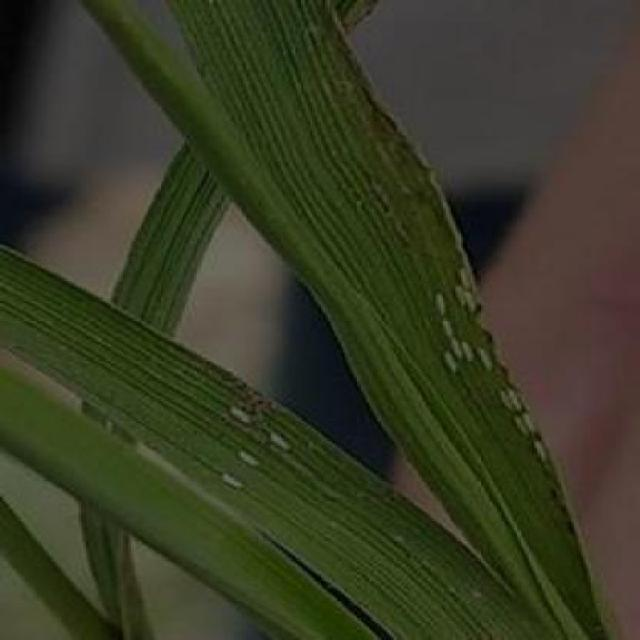whorl-maggot: (263, 428, 302, 462), (219, 472, 253, 503), (528, 438, 558, 470), (514, 414, 543, 446), (234, 449, 268, 473), (222, 402, 250, 429), (494, 391, 523, 415), (479, 343, 498, 377), (454, 268, 480, 292), (430, 287, 448, 318), (440, 354, 463, 378), (436, 318, 458, 340)
